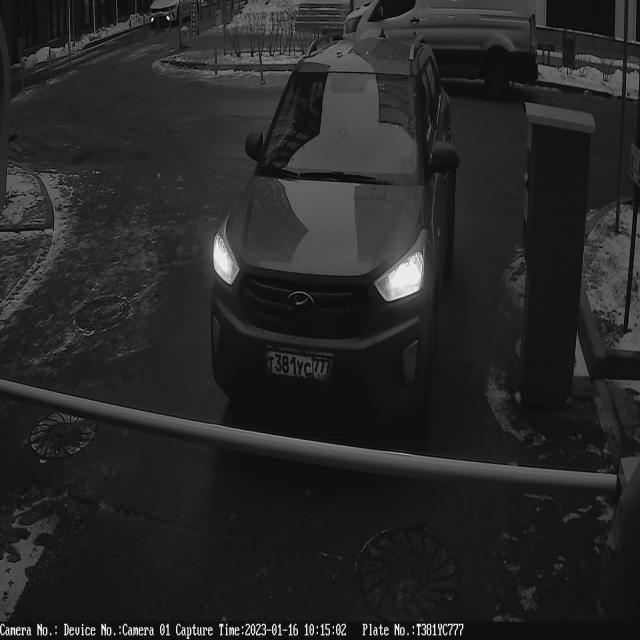car-plate-numbers: (260, 340, 338, 388)
